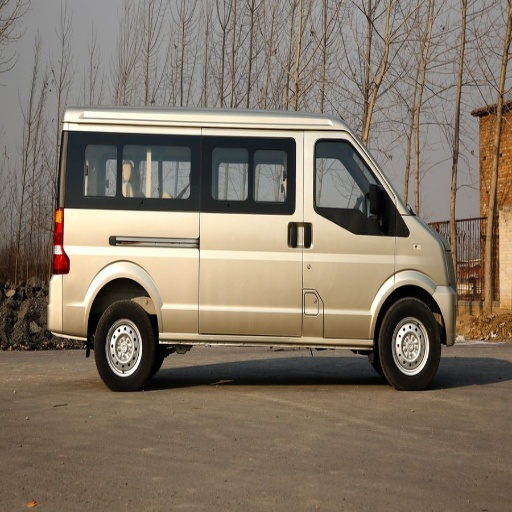trunk: (54, 210, 286, 334)
